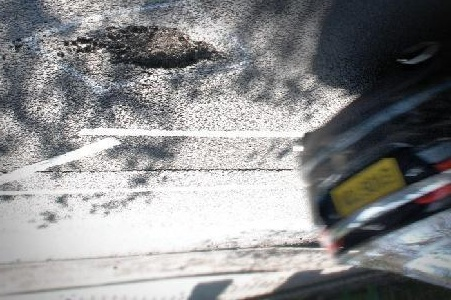pothole: (79, 23, 226, 71), (280, 236, 323, 249)
